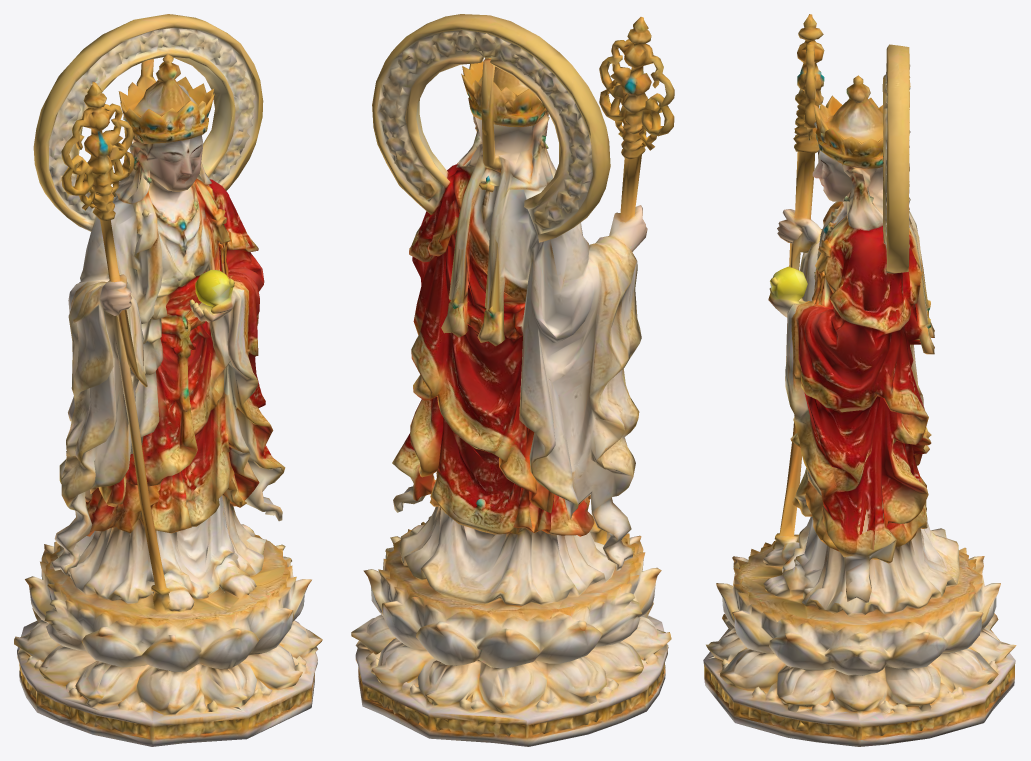
3 views of the same model, side by side, from view 1: azimuth 30°, elevation 25°; view 2: azimuth 150°, elevation 25°; view 3: azimuth 270°, elevation 25° (orthographic). The views are drawn at different scales.
Parts seen in each view (by area): view 1: owner-collection20-13; view 2: owner-collection20-13; view 3: owner-collection20-13.
Part boxes in pixels (x1,y1,x2,y2): owner-collection20-13: (14,14,322,746); owner-collection20-13: (351,14,674,746); owner-collection20-13: (703,14,1016,746).
Bounding box in the file's own units: 0.4235 × 1 × 0.4511.
Materials: 1 (1 with a texture image).
